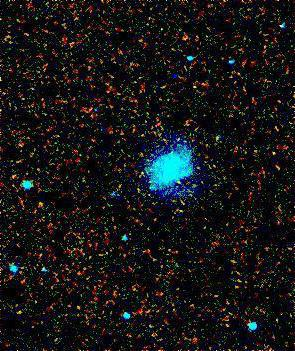star: (164, 165, 194, 195)
